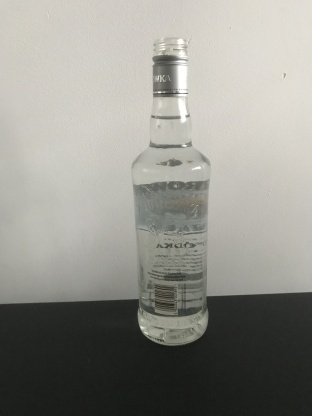nakretka: (150, 37, 190, 98)
